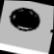correct: (4, 2, 44, 36)
